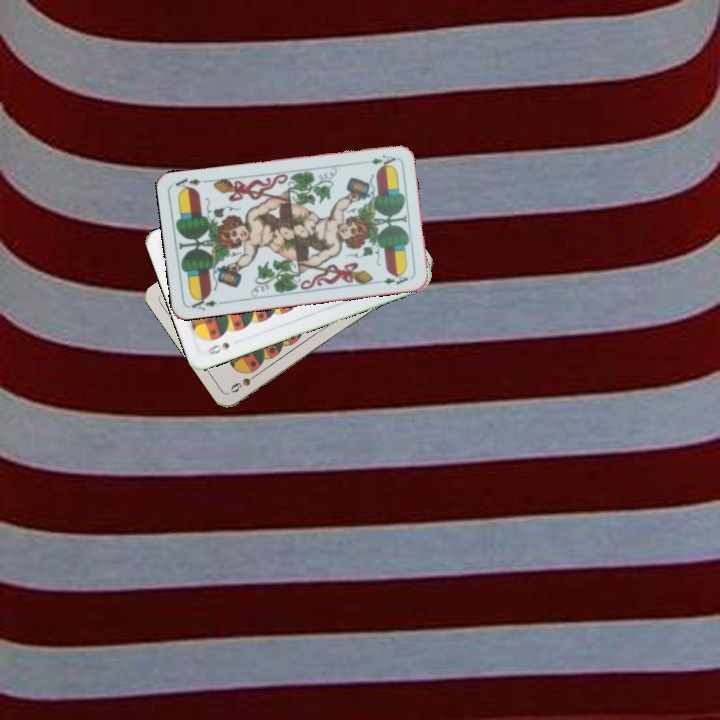EA: (186, 292, 220, 313), (366, 150, 398, 169)
S8: (204, 338, 232, 358)
S9: (226, 368, 263, 395)
